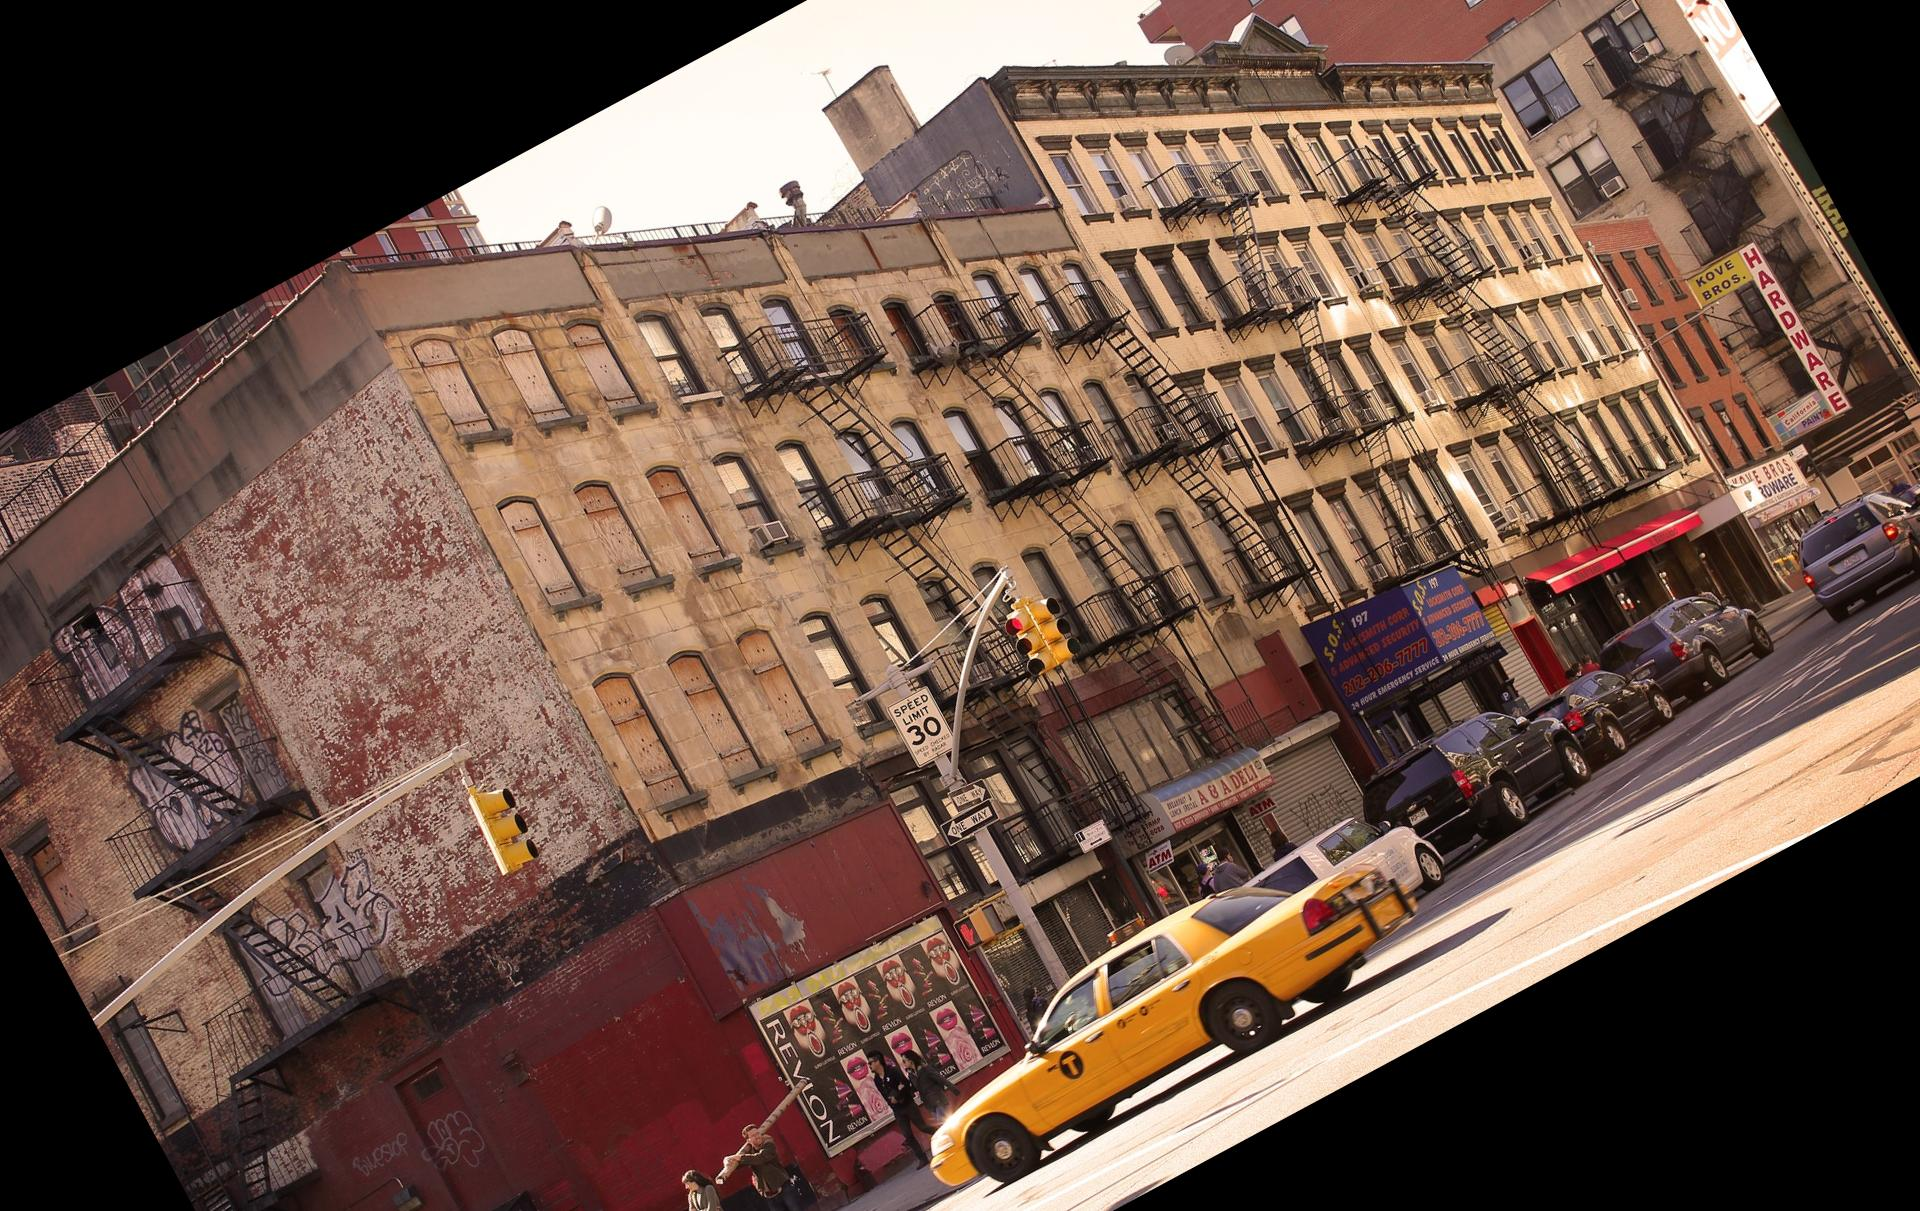taxi: (935, 836, 1397, 1196)
